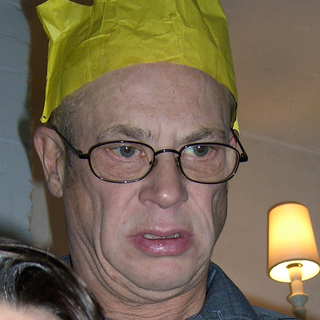eye: (106, 139, 148, 164), (180, 141, 221, 162)
